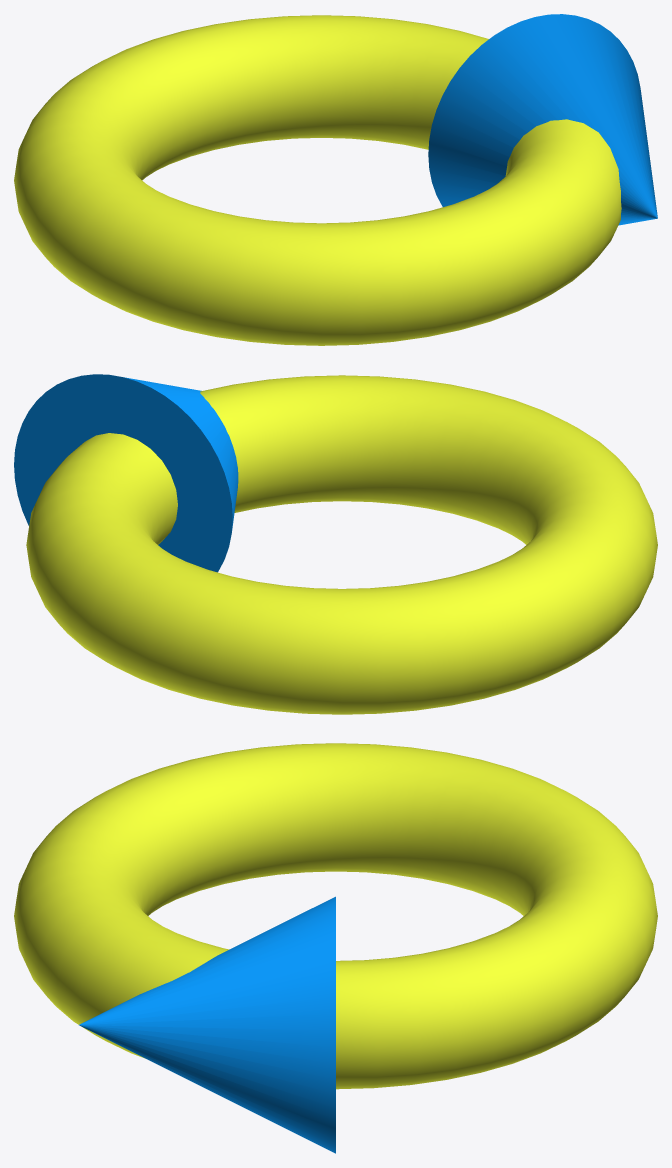
Rendered from arrow_left_circle.dae.
3 renders of one model, top to bottom at view 1: azimuth 30°, elevation 25°; view 2: azimuth 150°, elevation 25°; view 3: azimuth 270°, elevation 25°, orthographic. The views are drawn at different scales.
Parts seen in each view (by area): view 1: torus, cone; view 2: torus, cone; view 3: torus, cone.
Part boxes in pixels (left/top/right/bottom): torus: left=14, top=15, right=621, bottom=345; cone: left=428, top=14, right=657, bottom=225; torus: left=26, top=375, right=657, bottom=714; cone: left=14, top=374, right=238, bottom=572; torus: left=14, top=743, right=657, bottom=1089; cone: left=79, top=896, right=335, bottom=1153.
Size of the model in its own units: 1.38 by 0.5 by 1.25.
